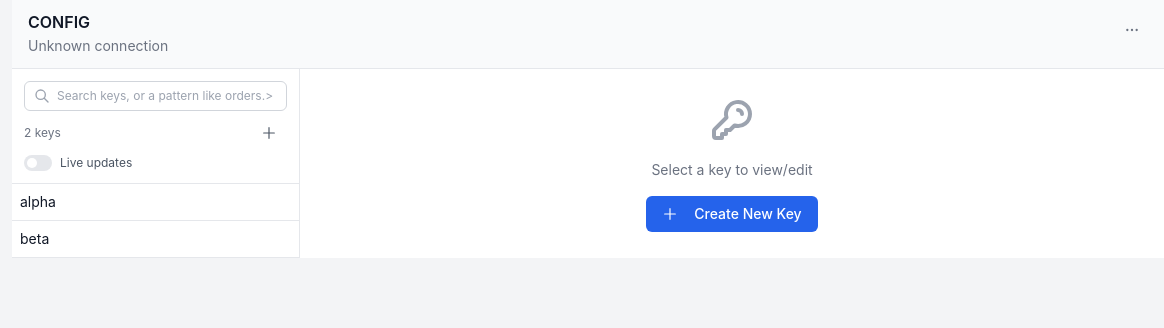
Test: KVStorePage › shows each picked key with its own value, also one already loaded before
Click the button "alpha": [128, 202] box [12,184,243,220]
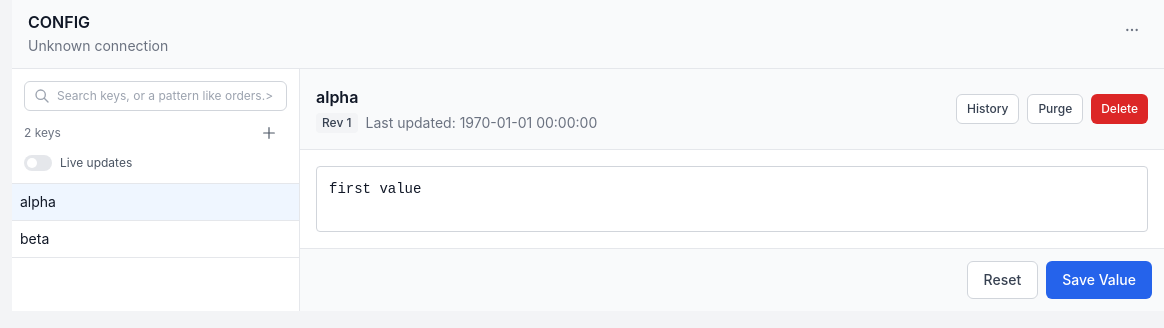
Result: the text box named "Key value" holds "first value" at [316,166,1148,232]
Click the button "beta": [128, 239] box [12,221,243,257]
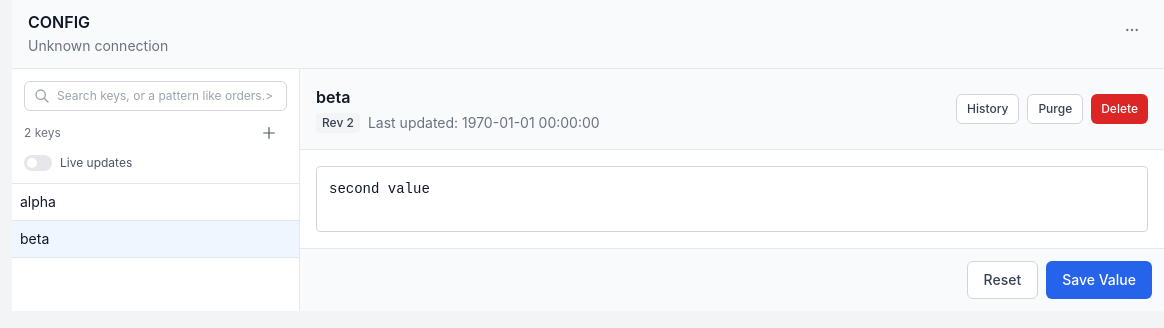
Result: the text box named "Key value" holds "second value" at [316,166,1148,232]
